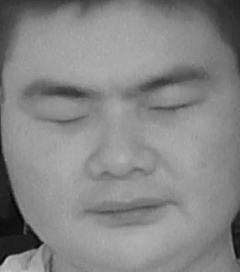blink: (148, 91, 205, 122), (39, 103, 90, 136)
mouth: (88, 187, 177, 234)
